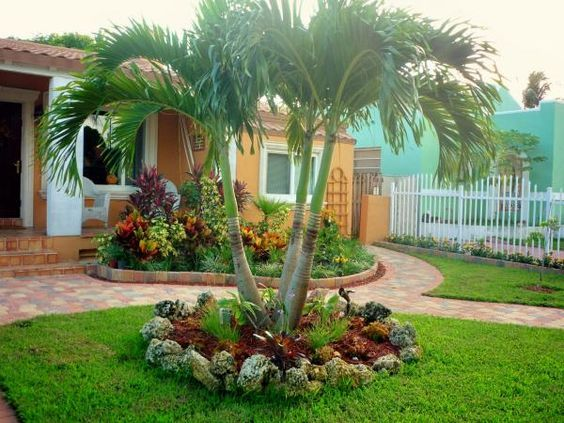tree: (47, 2, 511, 322)
